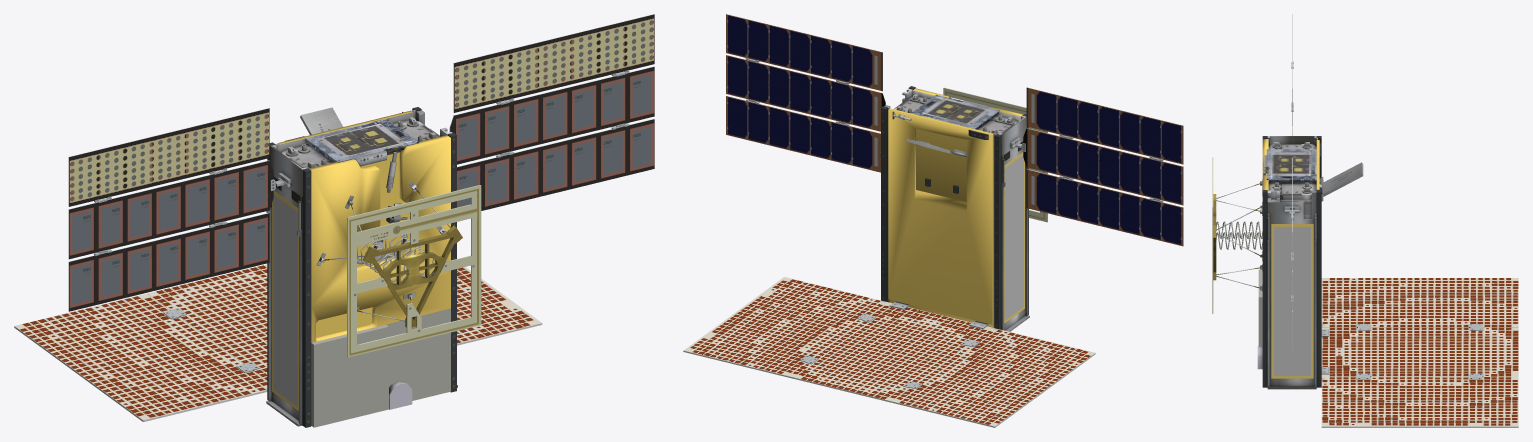
3 views of the same model, side by side, from view 1: azimuth 30°, elevation 25°; view 2: azimuth 150°, elevation 25°; view 3: azimuth 270°, elevation 25° (orthographic). The views are drawn at different scales.
Parts seen in each view (by area): view 1: MarCo_BUS, Reflectarray_left, Antenna, Array_left_middle, Array_left_top, Array_right_top, Array_left_bottom, Array_right_middle, Array_right_bottom, Reflectarray_middle, silver_squares_side, Reflectarray_right (+2 smaller); view 2: MarCo_BUS, Reflectarray_left, Reflectarray_middle, Reflectarray_right, Array_left_middle, Array_left_top, Array_left_bottom, Array_right_top, Array_right_middle, Array_right_bottom, silver_squares_side, Antenna; view 3: Reflectarray_right, Reflectarray_middle, Reflectarray_left, MarCo_BUS, silver_squares_side, Antenna, gold_tape_sides, Antenna_Springs.
Part boxes in pixels (<box>): MarCo_BUS: <box>267,107,456,427</box>; Reflectarray_left: <box>14,293,267,421</box>; Antenna: <box>266,107,481,426</box>; Array_left_middle: <box>68,160,275,259</box>; Array_left_top: <box>68,108,269,206</box>; Array_right_top: <box>453,14,654,112</box>; Array_left_bottom: <box>68,212,269,311</box>; Array_right_middle: <box>449,66,654,164</box>; Array_right_bottom: <box>457,119,654,210</box>; Reflectarray_middle: <box>147,264,267,380</box>; silver_squares_side: <box>273,195,297,406</box>; Reflectarray_right: <box>457,267,542,345</box>; MarCo_BUS: <box>881,86,1028,330</box>; Reflectarray_left: <box>891,327,1095,427</box>; Reflectarray_middle: <box>787,301,991,402</box>; Reflectarray_right: <box>683,277,887,376</box>; Array_left_middle: <box>1021,128,1183,205</box>; Array_left_top: <box>1026,87,1183,164</box>; Array_left_bottom: <box>1026,169,1183,246</box>; Array_right_top: <box>726,14,882,91</box>; Array_right_middle: <box>726,55,885,131</box>; Array_right_bottom: <box>726,96,880,172</box>; silver_squares_side: <box>1005,155,1023,320</box>; Antenna: <box>880,87,1047,331</box>; Reflectarray_right: <box>1321,376,1518,427</box>; Reflectarray_middle: <box>1321,327,1518,376</box>; Reflectarray_left: <box>1321,278,1518,327</box>; MarCo_BUS: <box>1257,136,1321,387</box>; silver_squares_side: <box>1274,227,1310,375</box>; Antenna: <box>1212,157,1363,389</box>; gold_tape_sides: <box>1271,224,1313,378</box>; Antenna_Springs: <box>1216,221,1262,249</box>.
Size of the model in its own units: 0.887 by 0.448 by 0.5264.
Materials: 7 (3 with a texture image).
